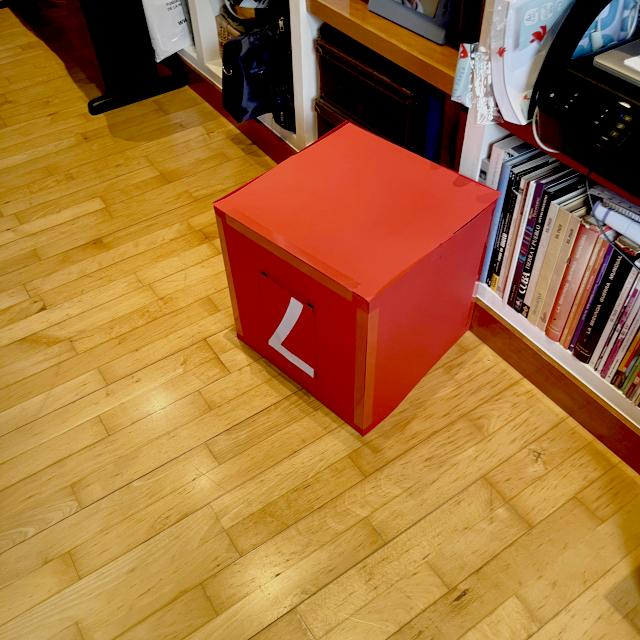box: (209, 118, 503, 438)
